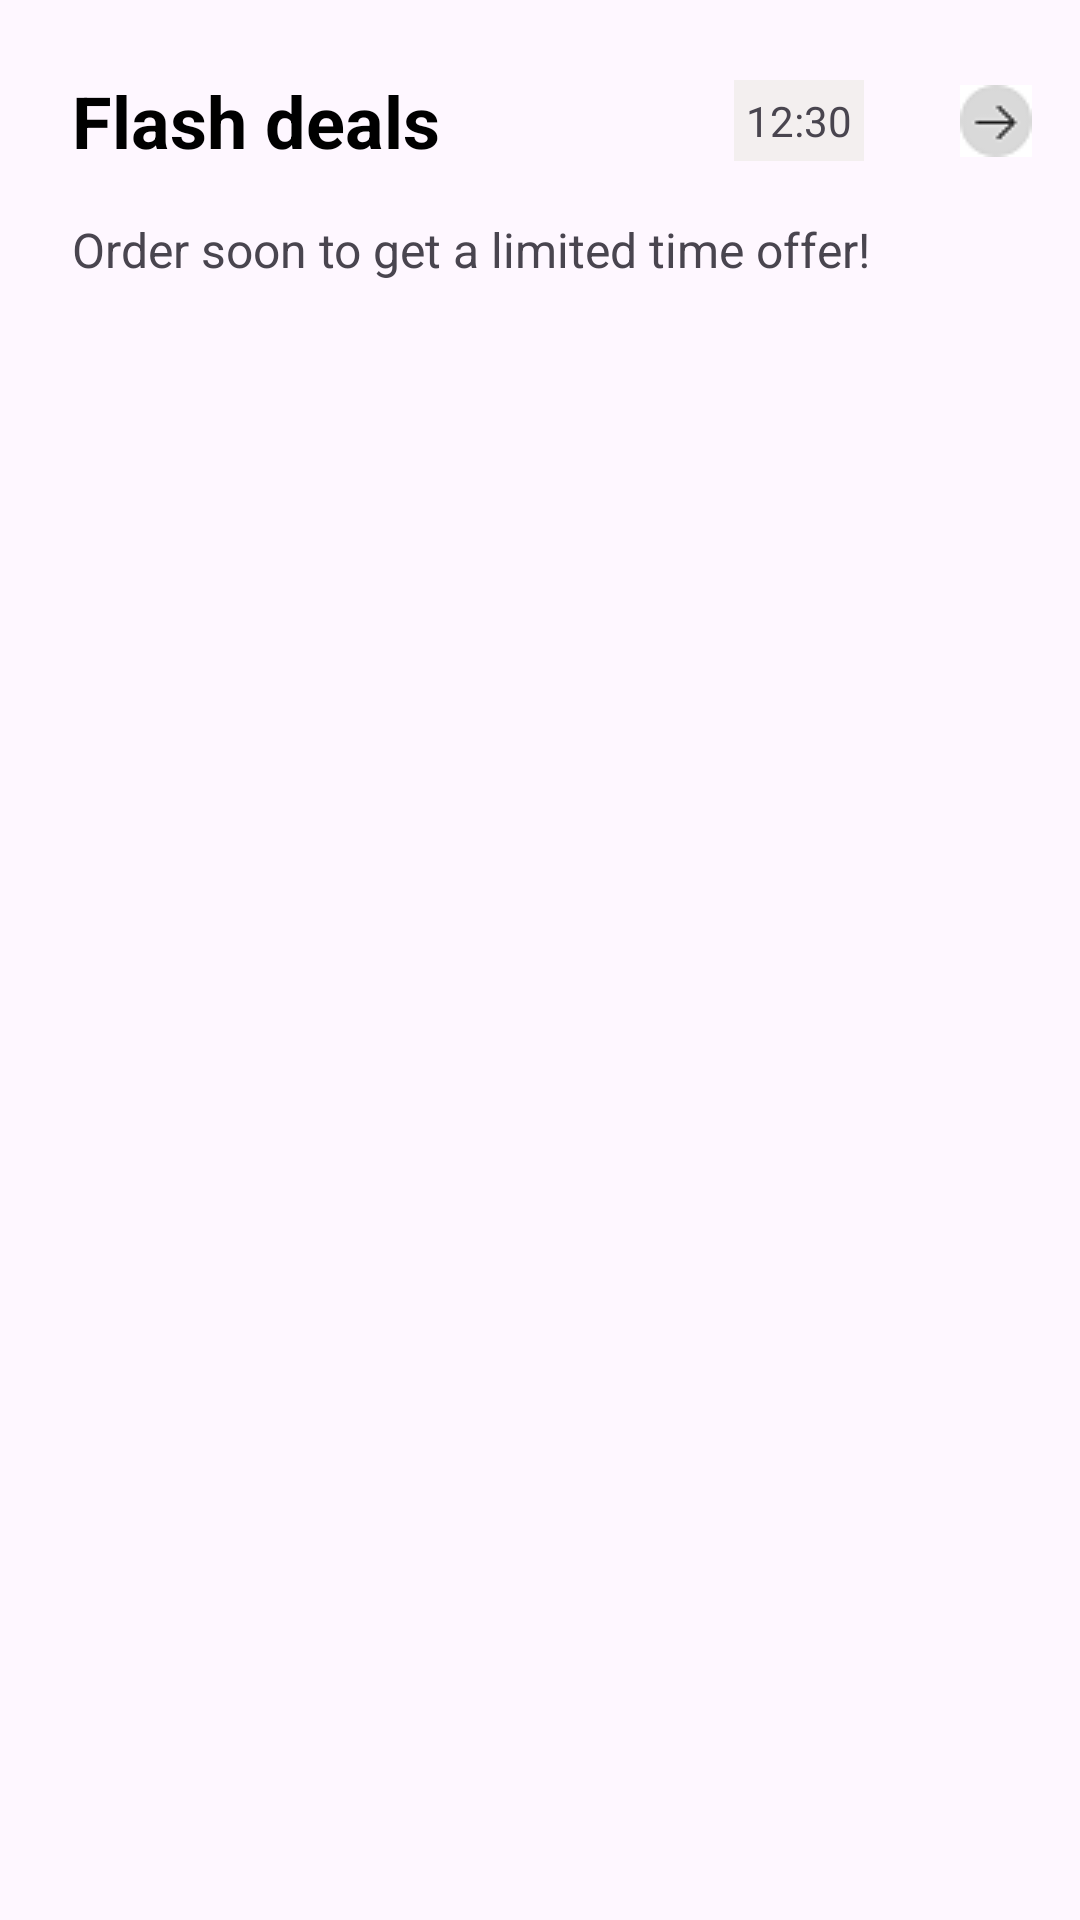

Named icons in this screenshot (1080w x 1920h) and their centers, (x=x, y=y):
arrow: (x=996, y=121)
